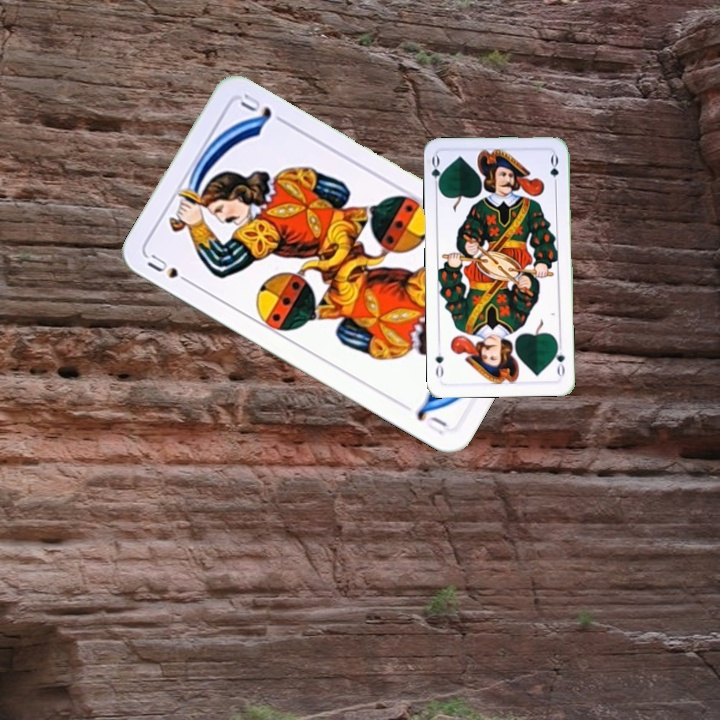GO: (427, 153, 446, 193), (550, 339, 567, 379)
SU: (143, 249, 197, 288)
